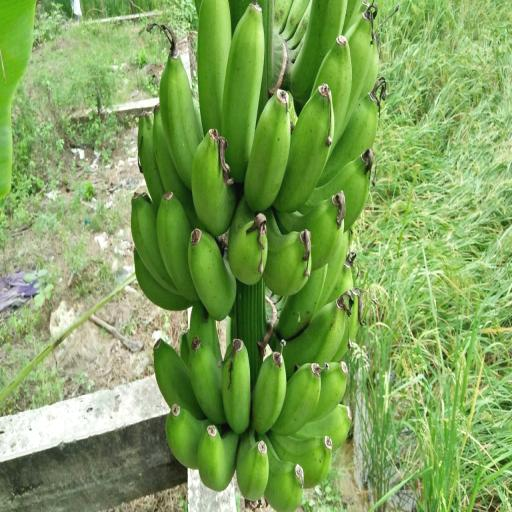banana-unripe: (117, 0, 406, 512)
